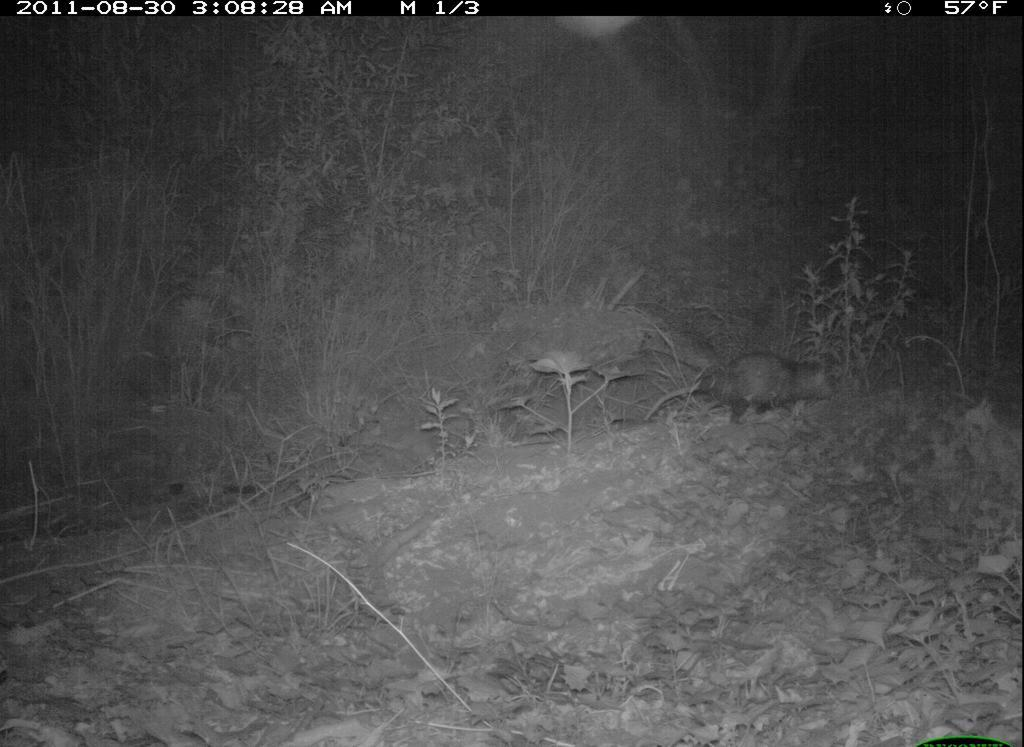opossum: (641, 346, 849, 436)
